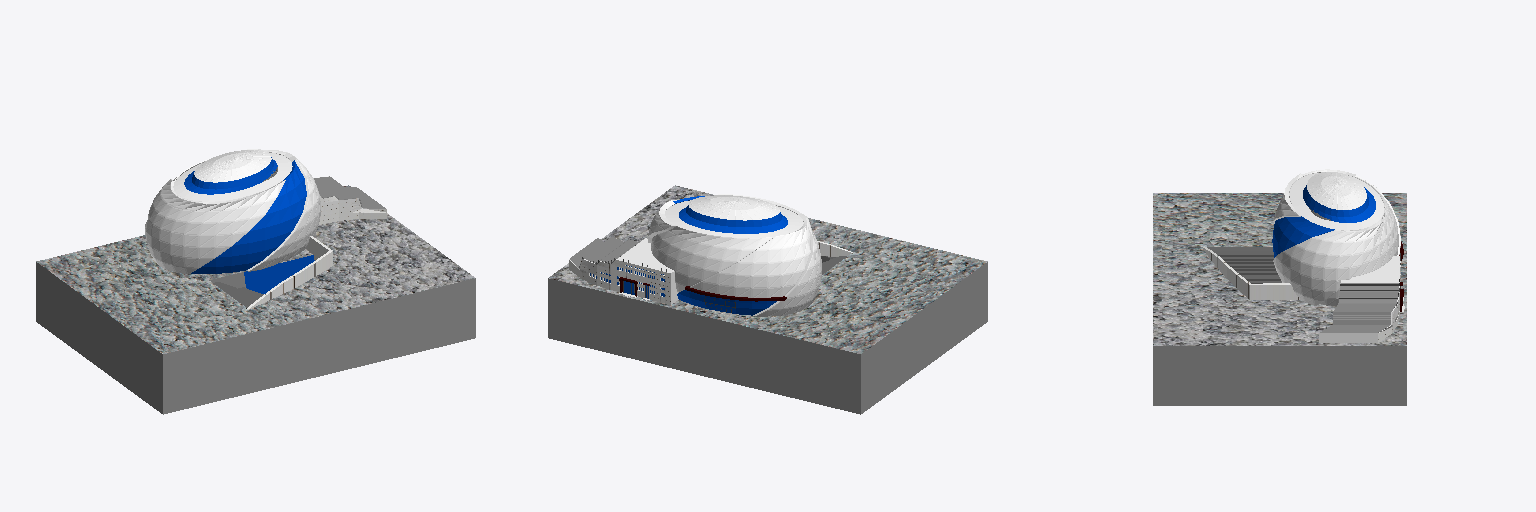
The picture shows the model from 3 angles: view 1: azimuth 30°, elevation 25°; view 2: azimuth 150°, elevation 25°; view 3: azimuth 270°, elevation 25°; orthographic projection.
Visible parts, largest first — view 1: stadiums; view 2: stadiums; view 3: stadiums.
Part boxes in pixels (bbox=[...]): stadiums: bbox=[36, 149, 475, 414]; stadiums: bbox=[548, 185, 987, 414]; stadiums: bbox=[1153, 169, 1406, 405].
Size of the model in its own units: 231 by 104 by 162.
9 materials, 2 textured.